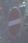No entry: (6, 6, 23, 38)
